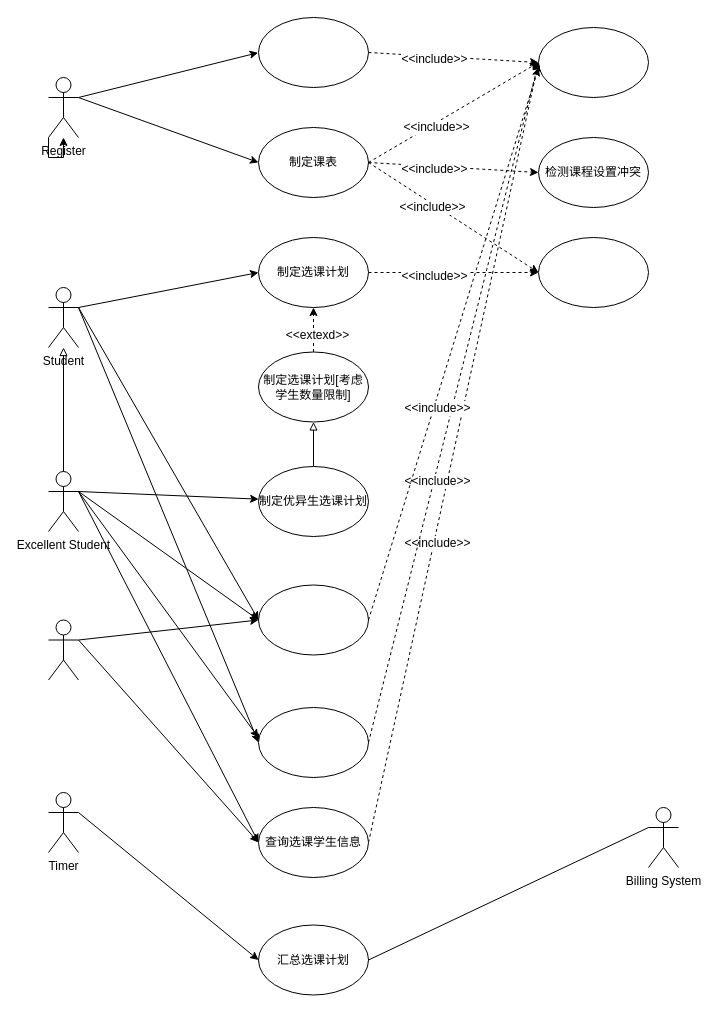
Some shapes in this 718 by 1013 pixel diagram are drawn without their labels. The centre of each missing label's shape, as x and y in pixels:
Teacher: the point at 63,649
搜索课程和教师信息: the point at 593,272
查询课表及课程信息: the point at 313,619
查询选课计划: the point at 313,742
用户身份验证: the point at 593,62
设定课程信息: the point at 313,52
